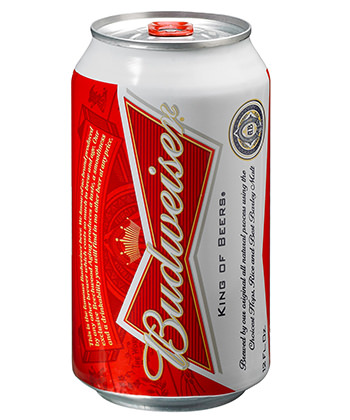beer can: (72, 10, 271, 409)
